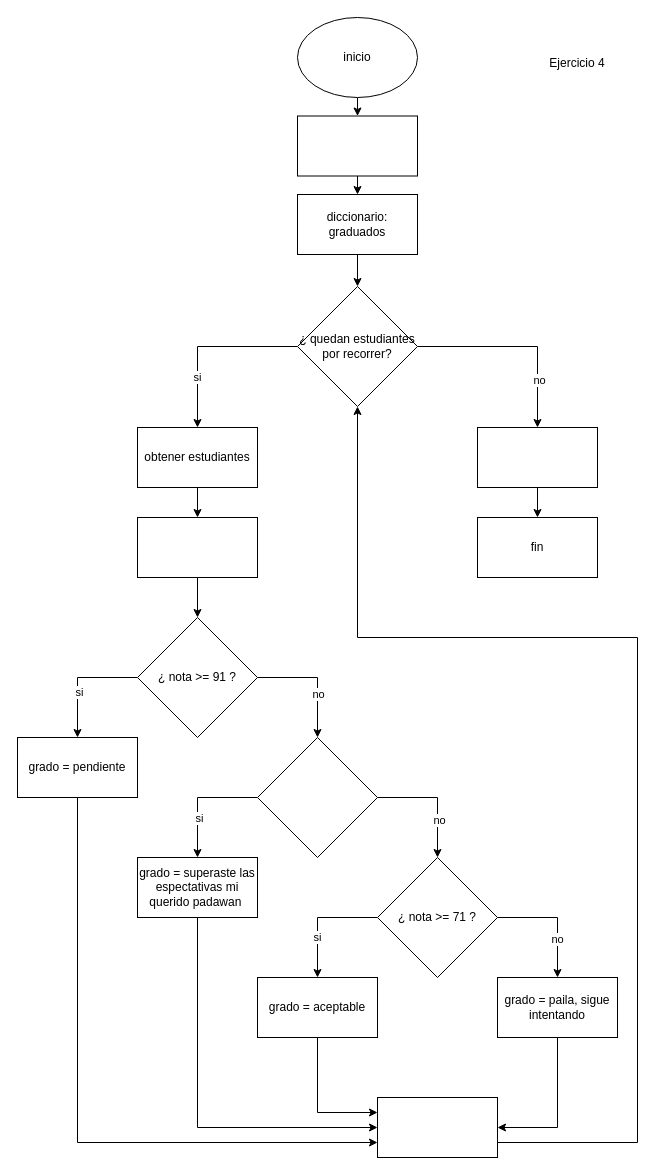
Image size: 663x1175. Some labels were removed from this diagram. Each missing label, with the box of its shape:
diccionario: notas_de_estudiante: (296, 115, 418, 176)
guardar: graduados[estudiante] = grado: (376, 1096, 498, 1158)
imprimir: graduados: (476, 426, 598, 488)
obtener nota numerica: (136, 516, 258, 578)
¿ nota >= 81 ?: (256, 736, 378, 858)
